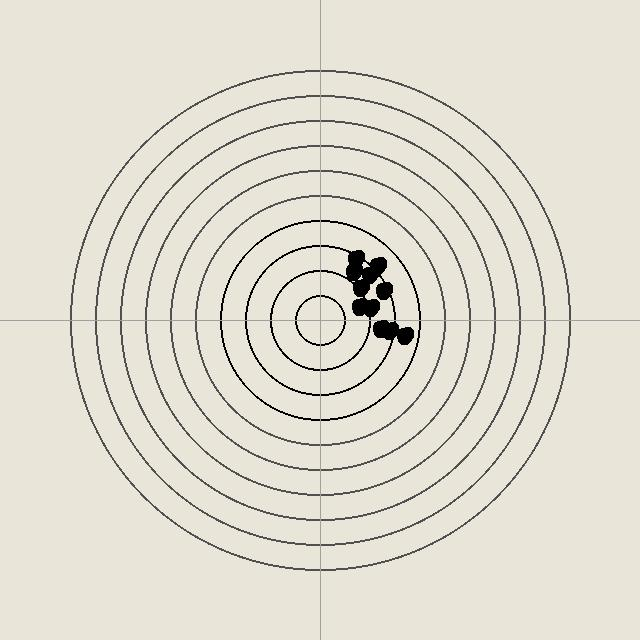good_group: (345, 248, 365, 268), (343, 261, 363, 281), (379, 320, 399, 340), (359, 264, 379, 284), (370, 318, 390, 338), (394, 325, 414, 345), (373, 280, 393, 300), (367, 255, 387, 275), (350, 277, 370, 297), (360, 297, 380, 317), (349, 296, 369, 316)
